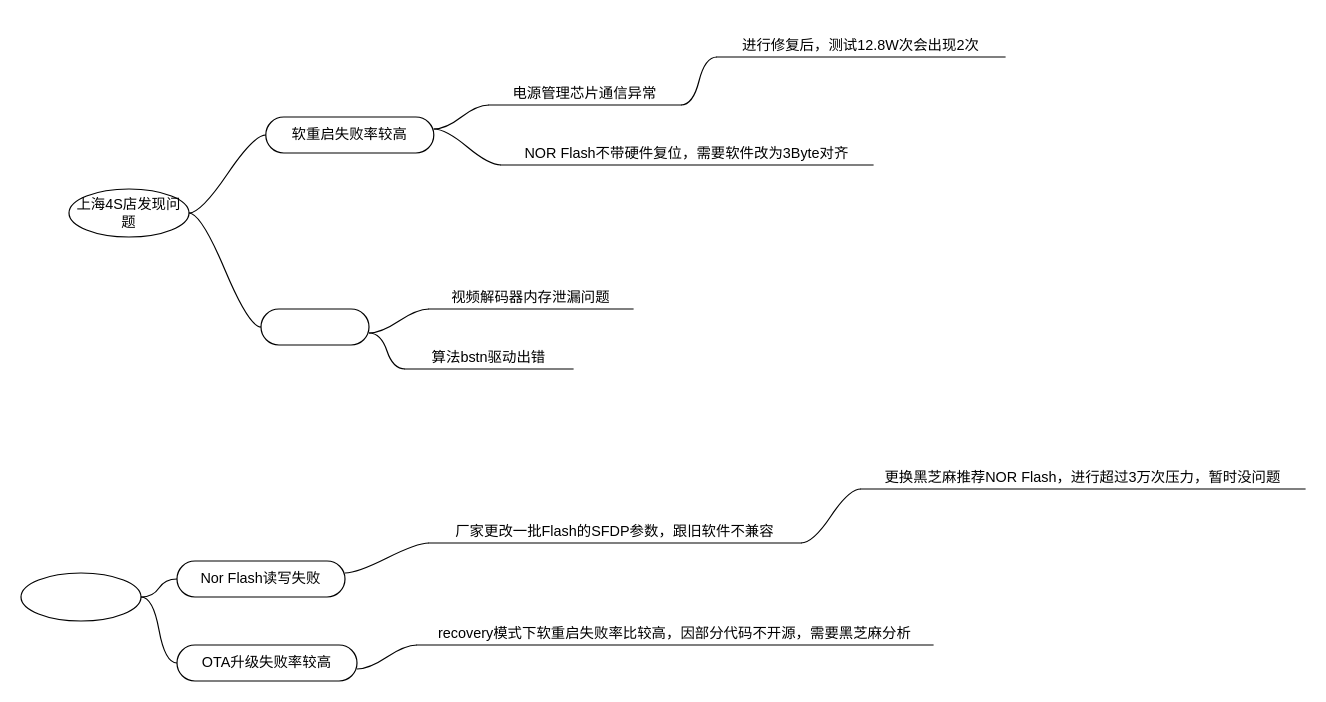
Image size: 1326x702. Some labels were removed from this diagram. Here are the shapes that lost their labels. From the top down, the box of each, then its label:
(260, 308, 369, 345): 偶发挂死
(20, 572, 141, 621): C样试产发现问题
